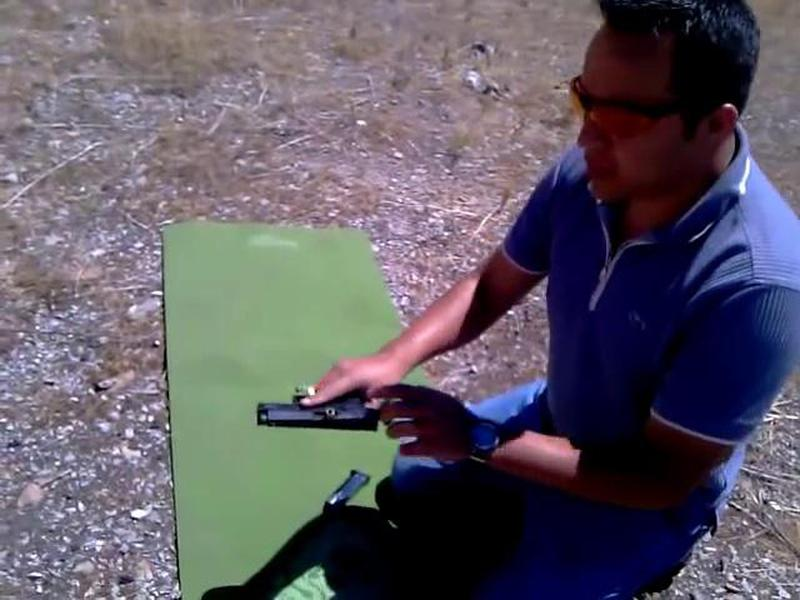Pistola: (258, 388, 396, 437)
